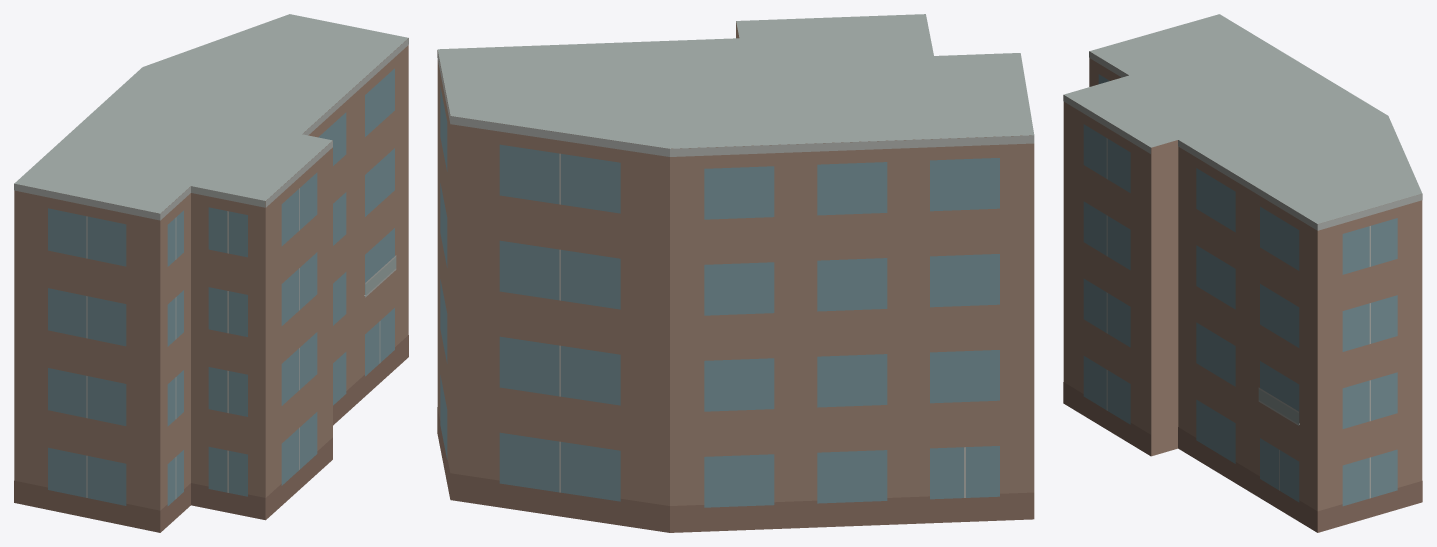
Rendered from survey-upis-32722538.glb.
3 views of the same model, side by side, from view 1: azimuth 30°, elevation 25°; view 2: azimuth 150°, elevation 25°; view 3: azimuth 270°, elevation 25° (orthographic). The views are drawn at different scales.
Parts seen in each view (by area): view 1: survey-upis-32722538.tmp; view 2: survey-upis-32722538.tmp; view 3: survey-upis-32722538.tmp.
Part boxes in pixels (<box>): survey-upis-32722538.tmp: <box>14,14,408,532</box>; survey-upis-32722538.tmp: <box>437,14,1034,532</box>; survey-upis-32722538.tmp: <box>1063,14,1422,532</box>.
Bounding box in the file's own units: 16.58 × 11.35 × 11.97.
